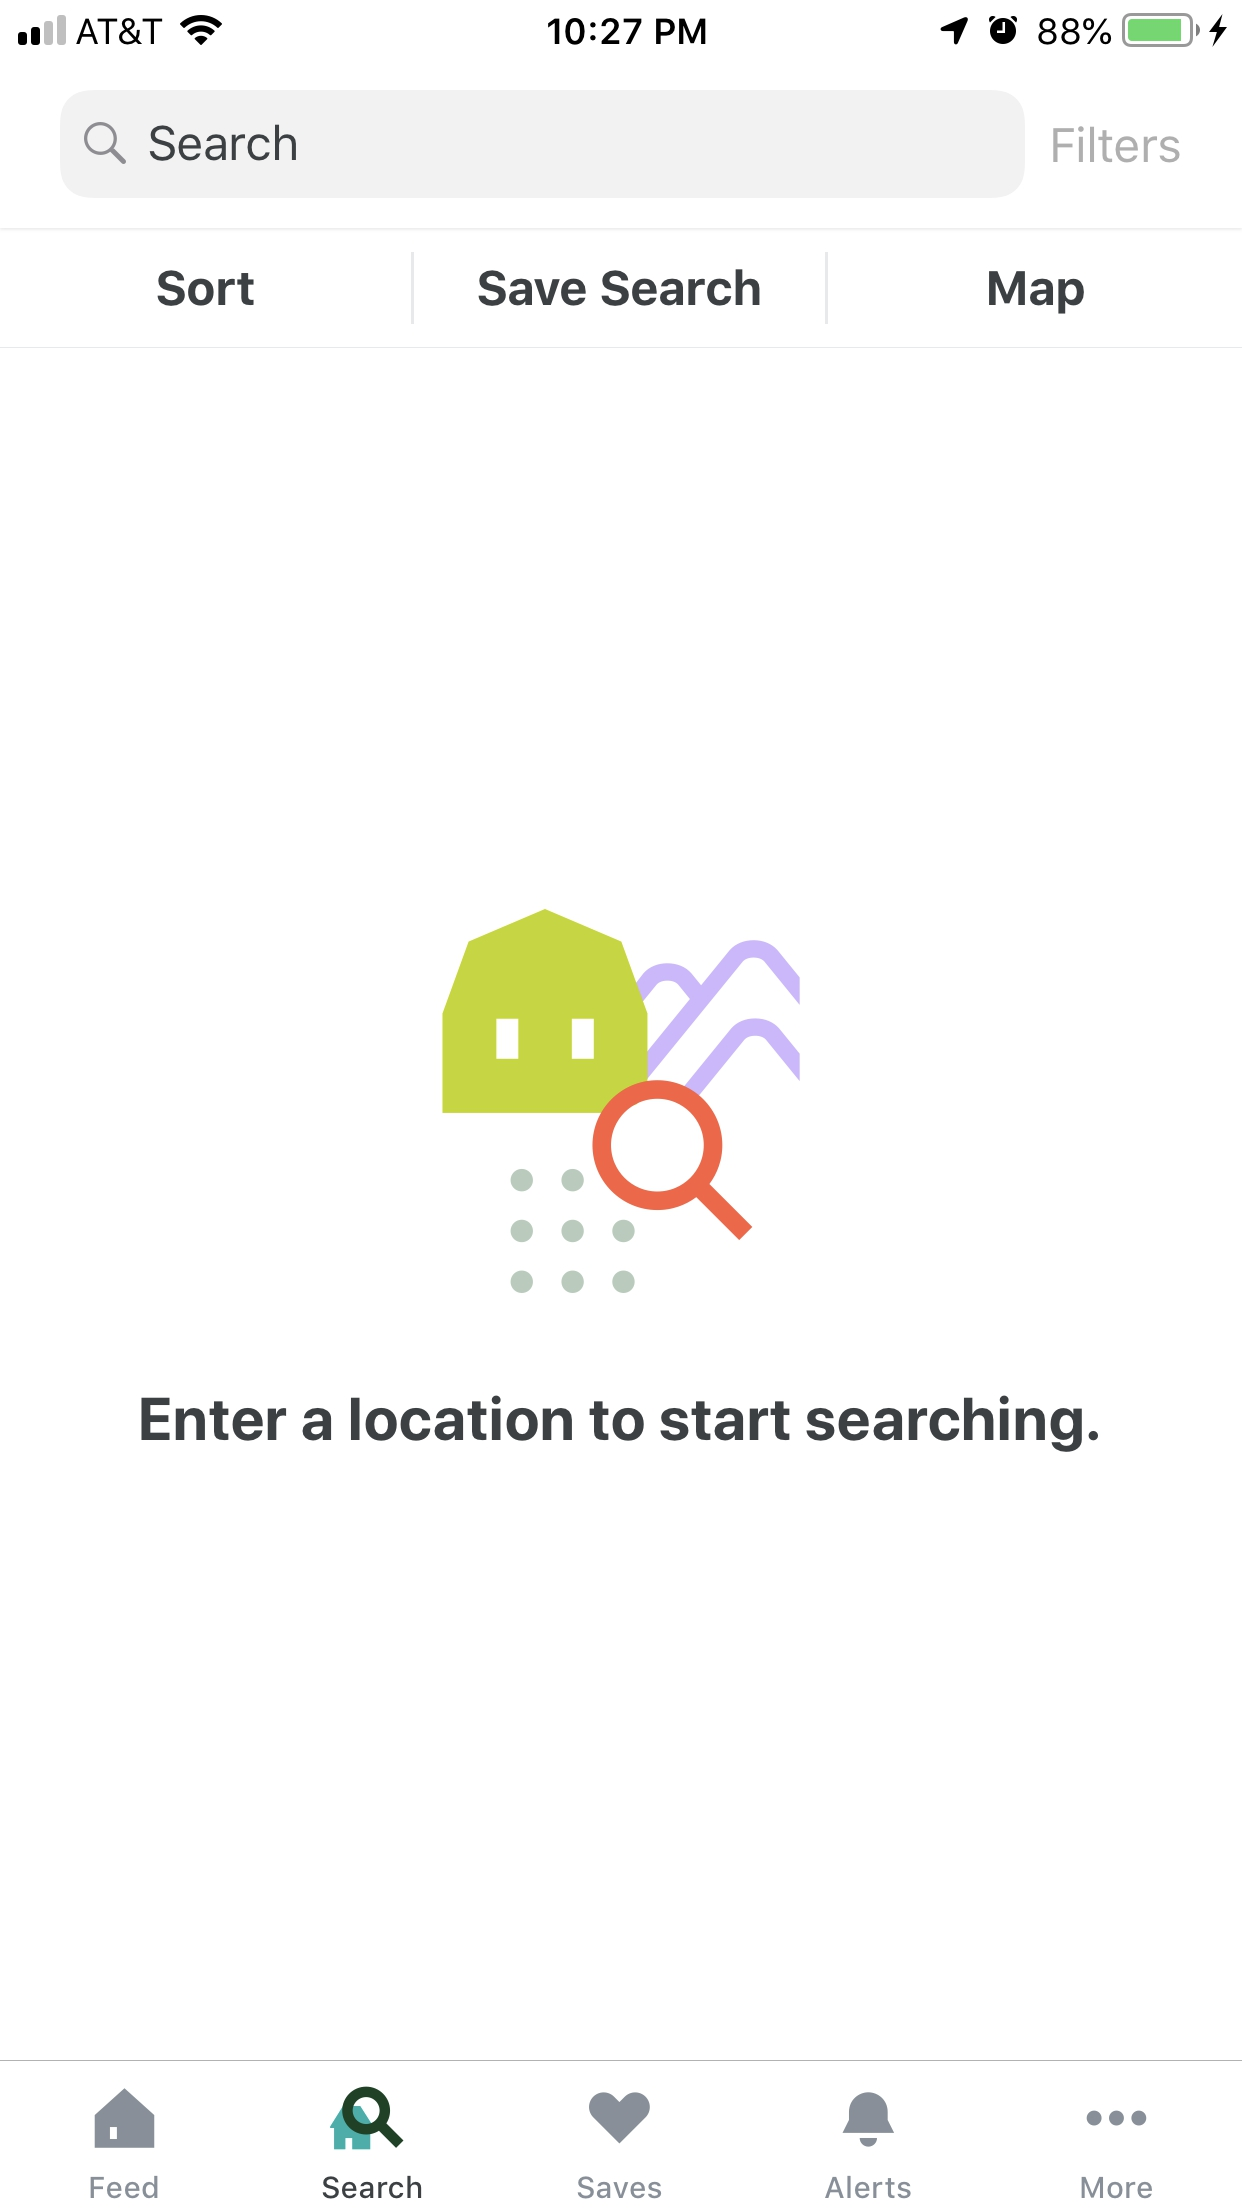EditText: (61, 89, 1027, 200)
Icon: (331, 2085, 405, 2150), (94, 2087, 156, 2147), (588, 2091, 651, 2144), (842, 2091, 895, 2147), (83, 123, 127, 165), (1086, 2109, 1148, 2128)
Image: (441, 908, 802, 1295)
Text: (141, 1394, 1099, 1454), (478, 268, 761, 308), (150, 124, 299, 162), (1052, 126, 1180, 165), (989, 271, 1084, 315), (158, 270, 256, 308), (323, 2175, 423, 2200), (825, 2175, 911, 2199), (578, 2176, 663, 2200), (91, 2175, 159, 2199), (1081, 2176, 1153, 2199)
UpperTaskBar: (2, 2, 1242, 49)
